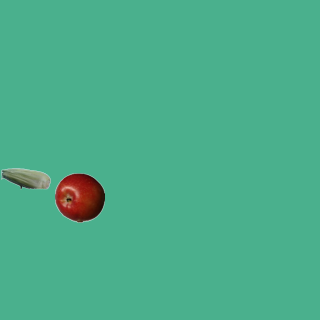Apple Braeburn: (54, 172, 104, 222)
Corn Husk: (0, 153, 50, 203)
